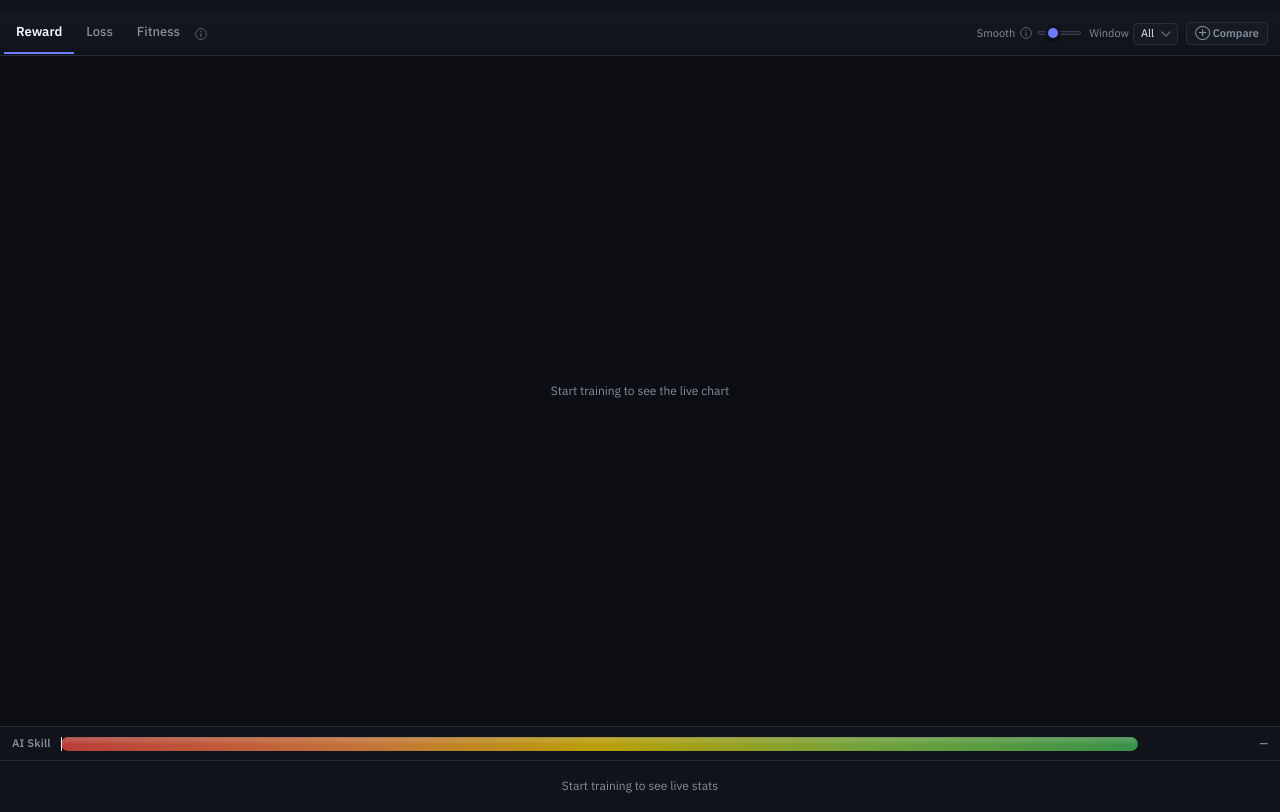
Test case: <RewardChart /> › marks tabs not produced by the selected algorithm (Q-learning)
This screenshot has width=1280, height=812.
Check: the text "Start training to see the live chart" is shown, box [551,383,729,398]
Click the button "Loss": (100, 33) [74,13,125,54]
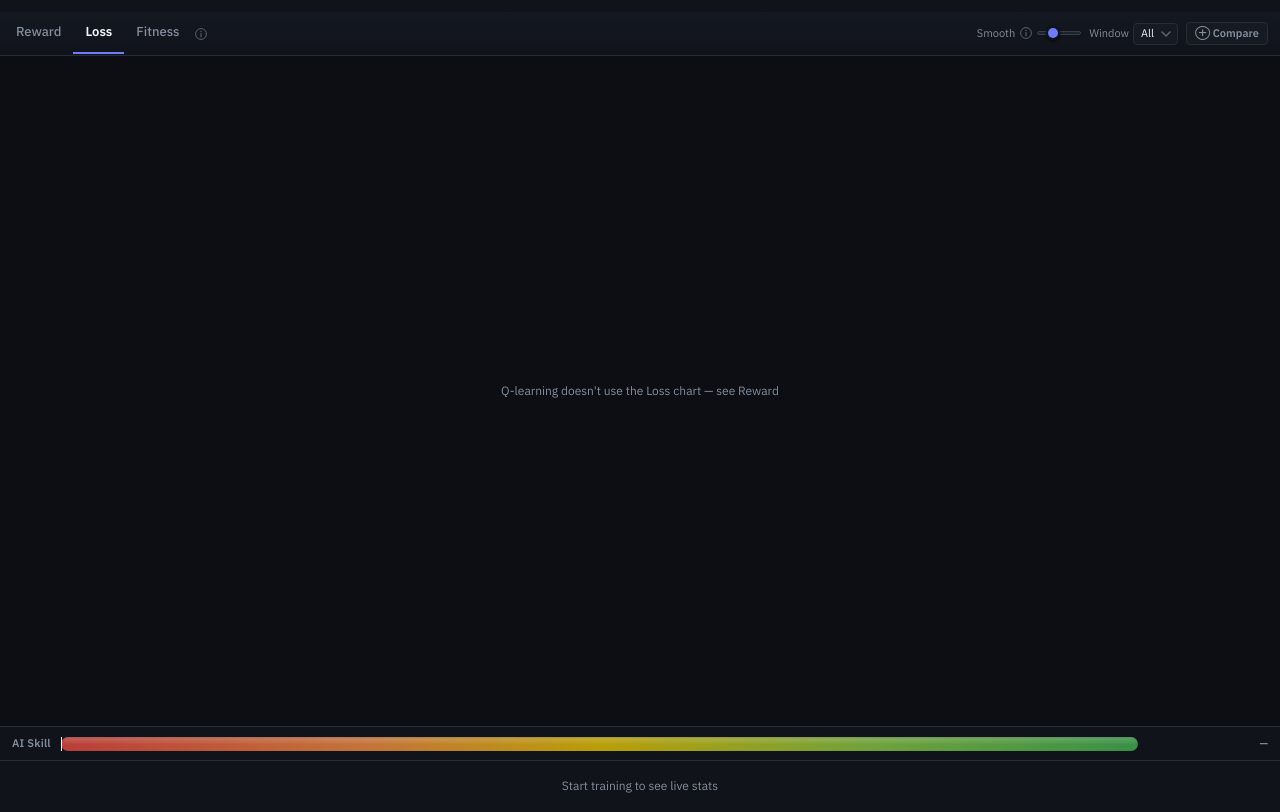
Check: the text "Q-learning doesn't use the Loss chart — see Reward" is shown, box [501,383,779,398]
